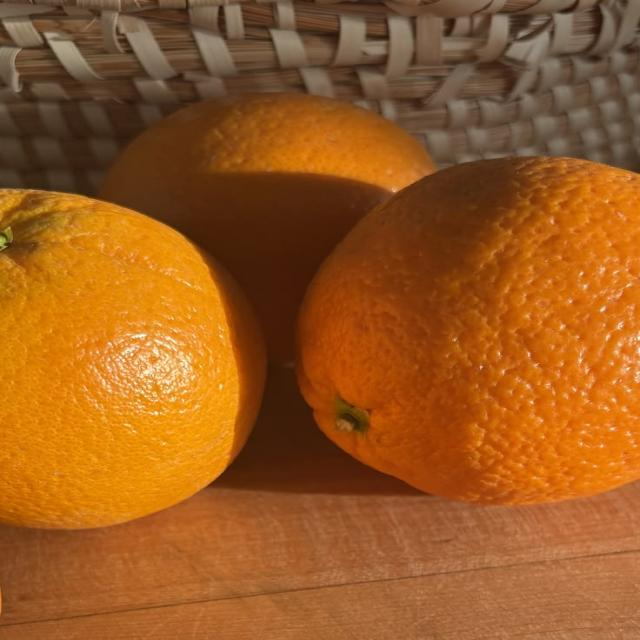orange: (297, 158, 639, 504), (99, 93, 434, 363), (0, 190, 266, 528)
